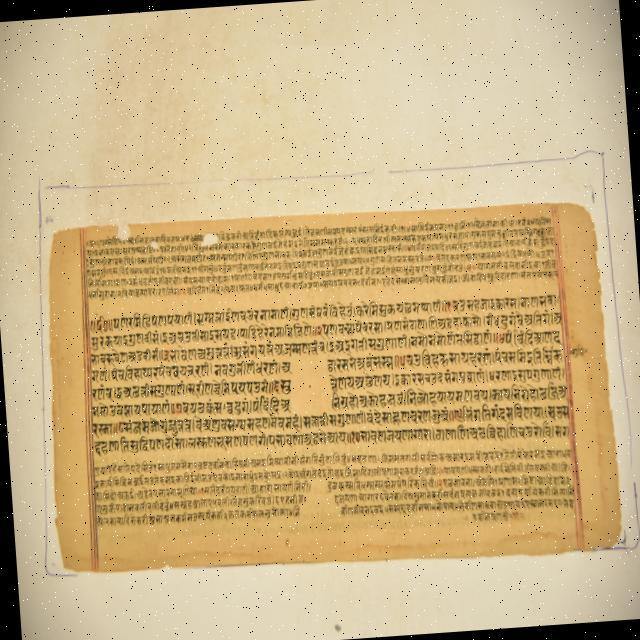text_paragraph: (45, 203, 621, 566)
